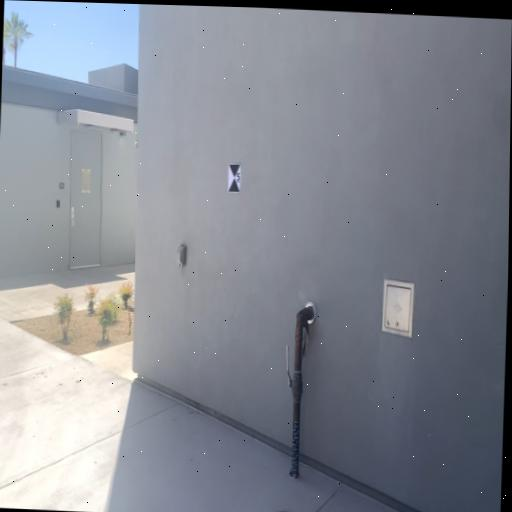target5: (228, 164, 242, 193)
